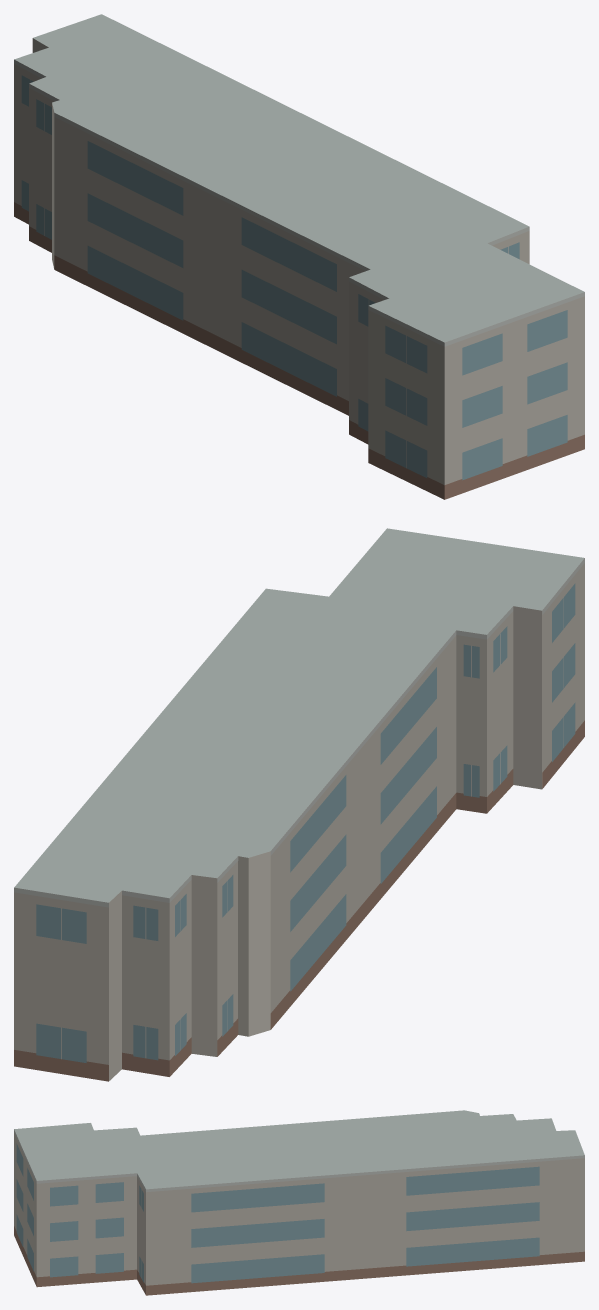
The model's file is survey-upis-32605006.glb.
3 views of the same model, one above another, from view 1: azimuth 30°, elevation 25°; view 2: azimuth 150°, elevation 25°; view 3: azimuth 270°, elevation 25° (orthographic). The views are drawn at different scales.
Parts seen in each view (by area): view 1: survey-upis-32605006.tmp; view 2: survey-upis-32605006.tmp; view 3: survey-upis-32605006.tmp.
Part boxes in pixels (left/top/right/bottom): survey-upis-32605006.tmp: left=14, top=14, right=584, bottom=499; survey-upis-32605006.tmp: left=14, top=528, right=584, bottom=1081; survey-upis-32605006.tmp: left=14, top=1110, right=584, bottom=1295.
Bounding box in the file's own units: 14.61 × 9.15 × 44.57.
